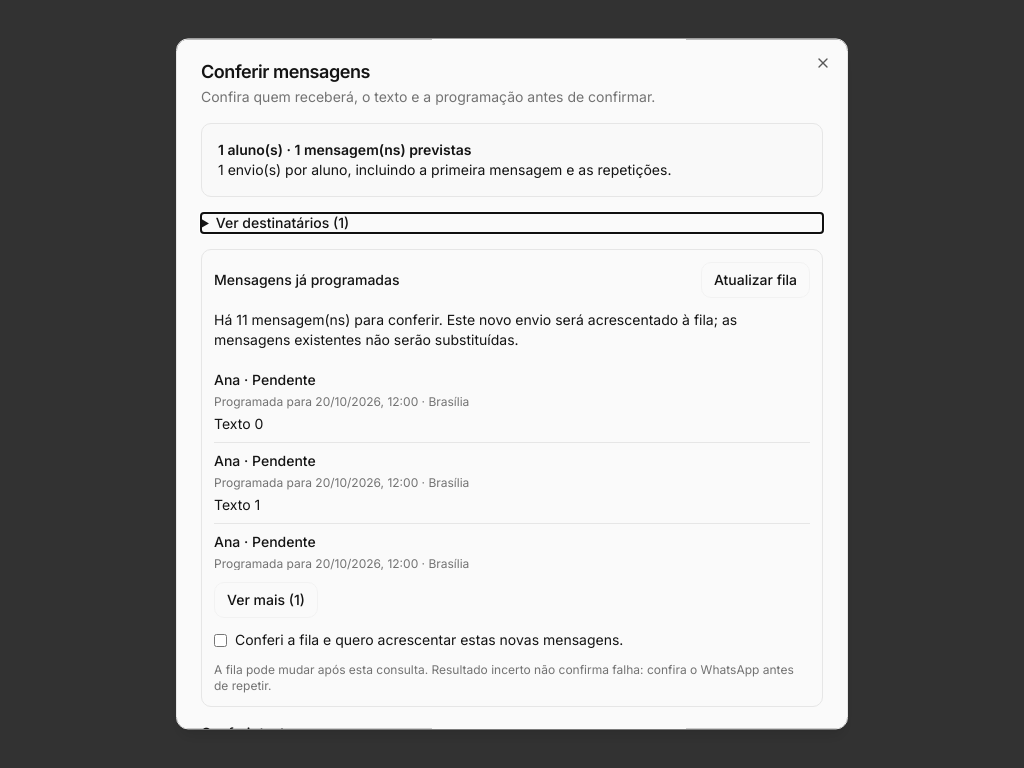
Test: shows more existing records without hiding the total
The width and height of the screenshot is (1024, 768).
Expected: the text "Há 11 mensagem" is shown, [214,310,810,350]
Expected: the text "Texto 10" is not shown
Click the button "Ver mais (1)". click: click(266, 600)
box: [214,582,318,618]
(page scrolled)
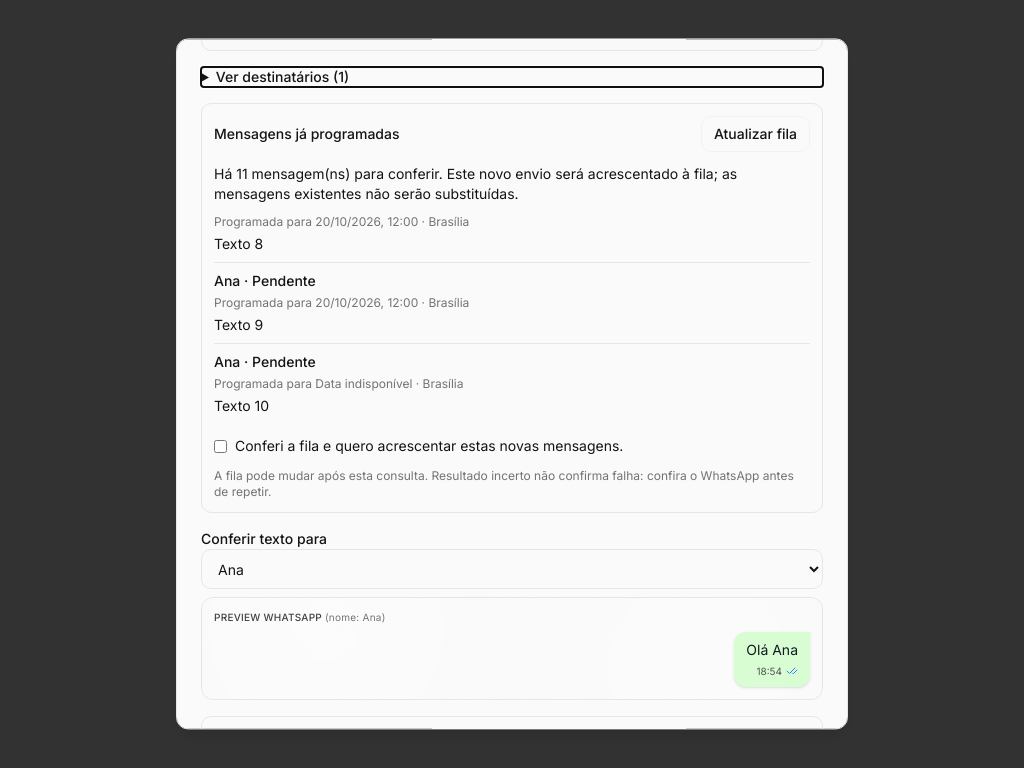
Expected: the text "Texto 10" is shown, [214,397,269,414]
Expected: the text "Programada para Data indisponível · Brasília" is shown, [214,376,464,391]
